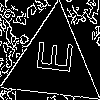E: (28, 38, 73, 76)
